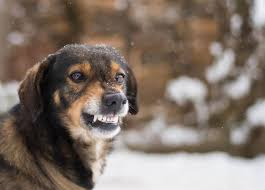dog: (21, 37, 146, 144)
